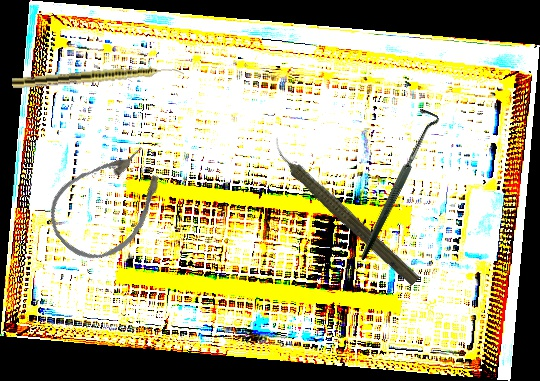Cannula: (34, 129, 185, 277)
Handpiece: (262, 135, 426, 289), (11, 62, 185, 92)
Hook Surgical: (310, 103, 481, 261)
